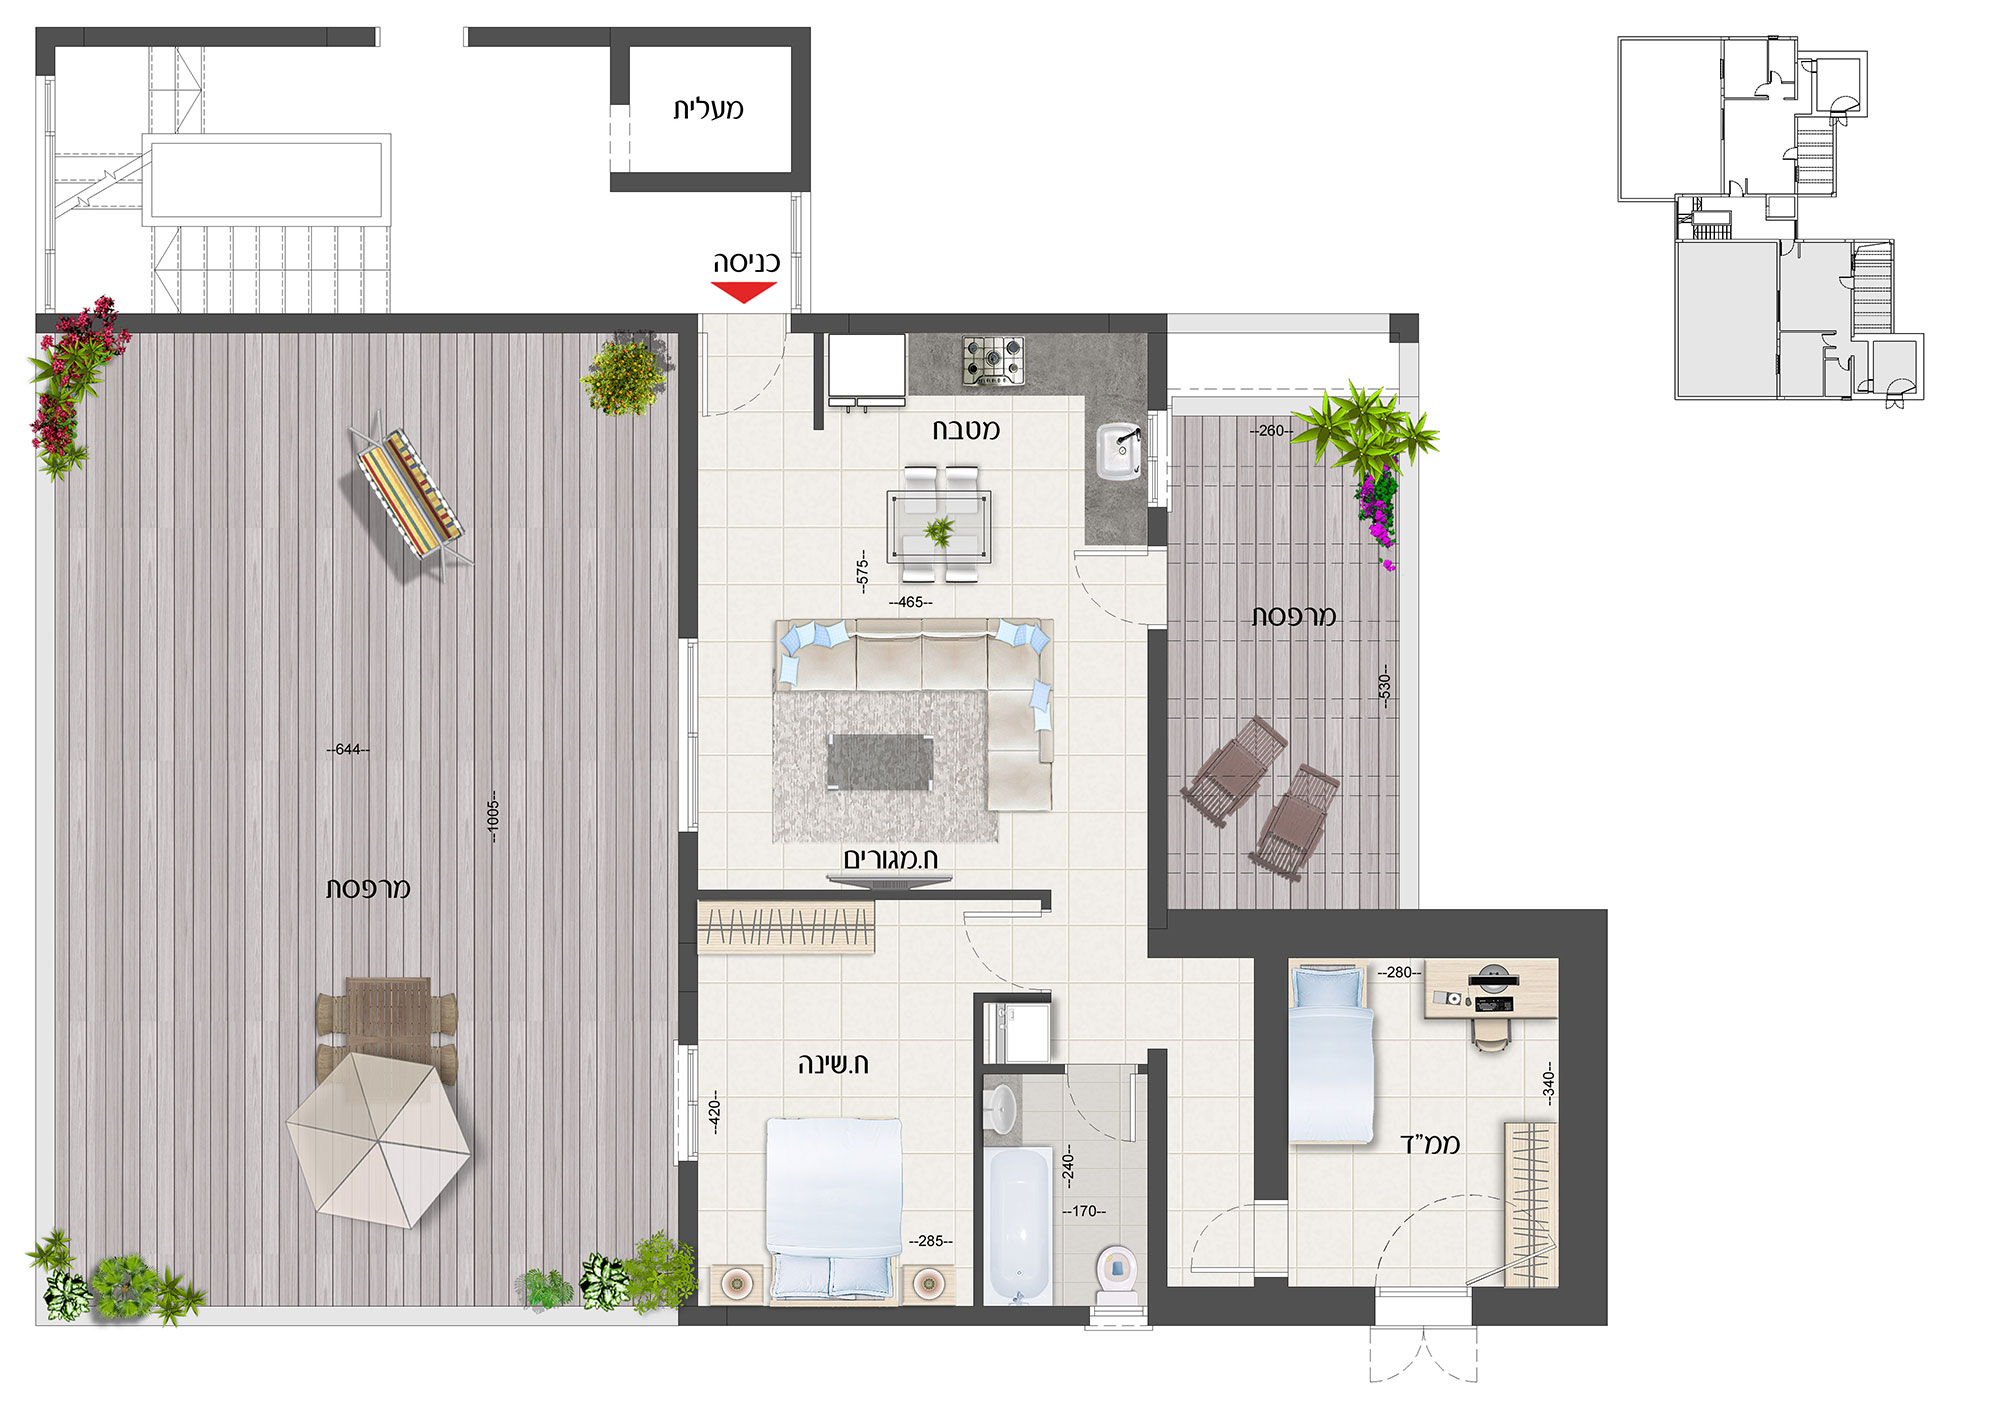door: (1366, 1329, 1485, 1395), (701, 338, 796, 421), (1067, 547, 1136, 640), (960, 907, 1038, 985), (1184, 1196, 1248, 1279), (1063, 1083, 1142, 1147)
wall: (1559, 911, 1609, 1326), (1168, 910, 1608, 957), (142, 312, 701, 334), (675, 312, 701, 639), (1149, 1288, 1377, 1325), (1256, 959, 1289, 1202), (688, 1306, 1086, 1326), (793, 312, 1168, 332), (1147, 629, 1167, 948), (34, 28, 374, 46), (204, 1306, 531, 1325), (1147, 1047, 1165, 1326), (678, 833, 698, 1044), (636, 26, 812, 49), (789, 26, 812, 190), (606, 175, 812, 191), (974, 992, 985, 1314), (469, 26, 629, 46), (1145, 312, 1167, 410), (678, 1165, 700, 1240), (609, 28, 629, 107), (974, 1064, 1064, 1074)
window: (35, 133, 52, 253), (678, 639, 698, 734), (678, 735, 698, 828), (795, 254, 824, 312), (793, 193, 815, 256), (35, 75, 57, 135), (683, 1046, 694, 1161), (37, 251, 57, 312), (1149, 410, 1168, 458), (1150, 458, 1168, 504)
